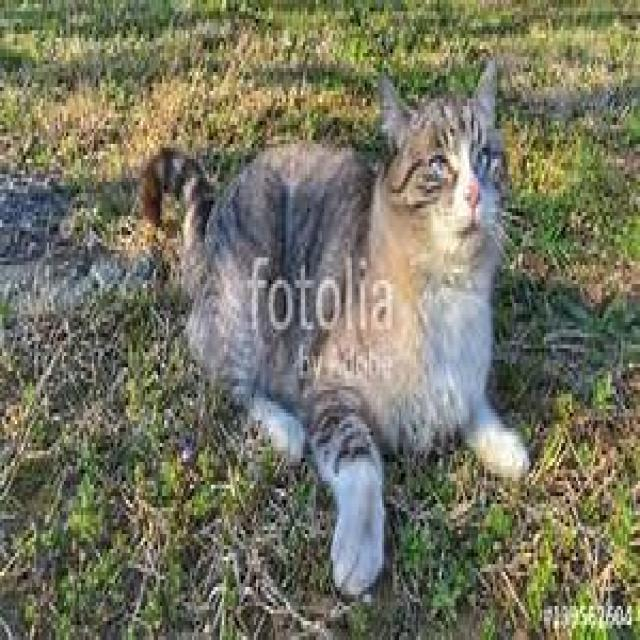cat: (144, 61, 531, 594)
